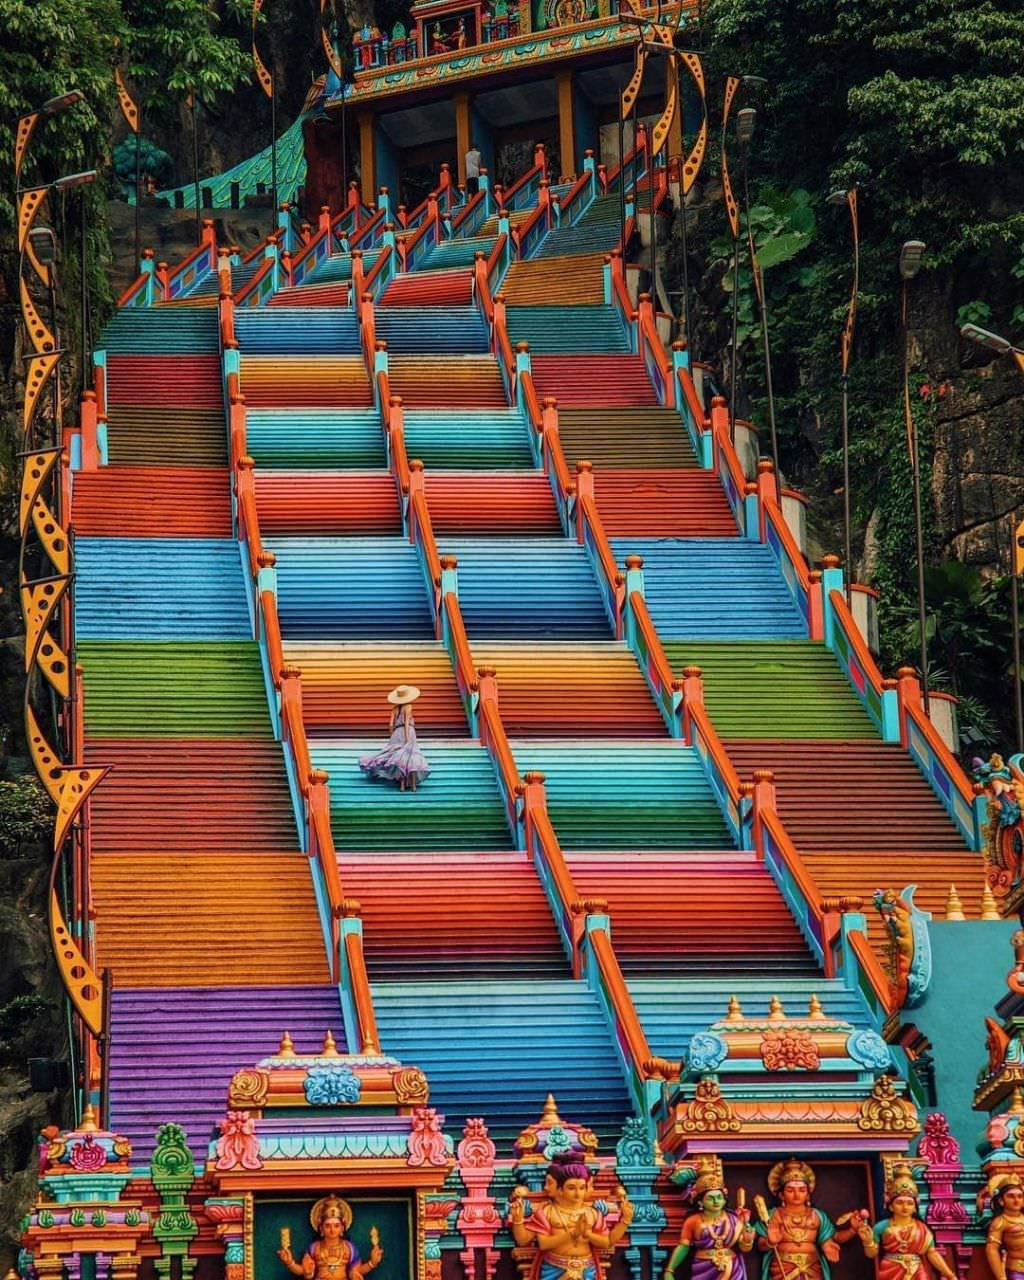Hindu Temple: (44, 166, 977, 1236)
